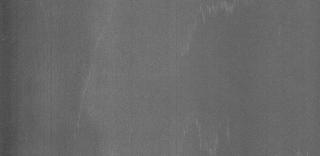silk spot: (179, 1, 241, 58)
